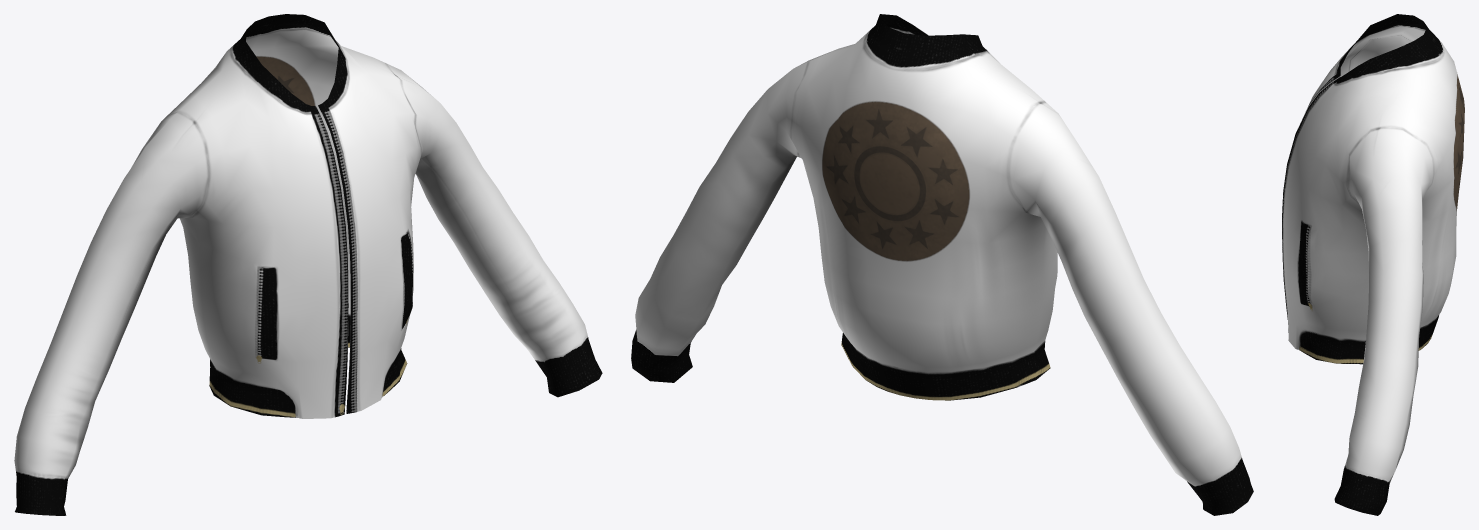
The model's file is lowpoly_gameready_jacket_cyberpunk.glb.
3 views of the same model, side by side, from view 1: azimuth 30°, elevation 25°; view 2: azimuth 150°, elevation 25°; view 3: azimuth 270°, elevation 25° (orthographic). The views are drawn at different scales.
Visible parts, largest first — view 1: SportsJacket2; view 2: SportsJacket2; view 3: SportsJacket2.
Part boxes in pixels (x1,y1,x2,y2): SportsJacket2: (14,14,602,515); SportsJacket2: (631,14,1253,515); SportsJacket2: (1282,14,1464,515).
Size of the model in its own units: 1.91 by 1.3 by 0.5811.
Materials: 1 (1 with a texture image).
